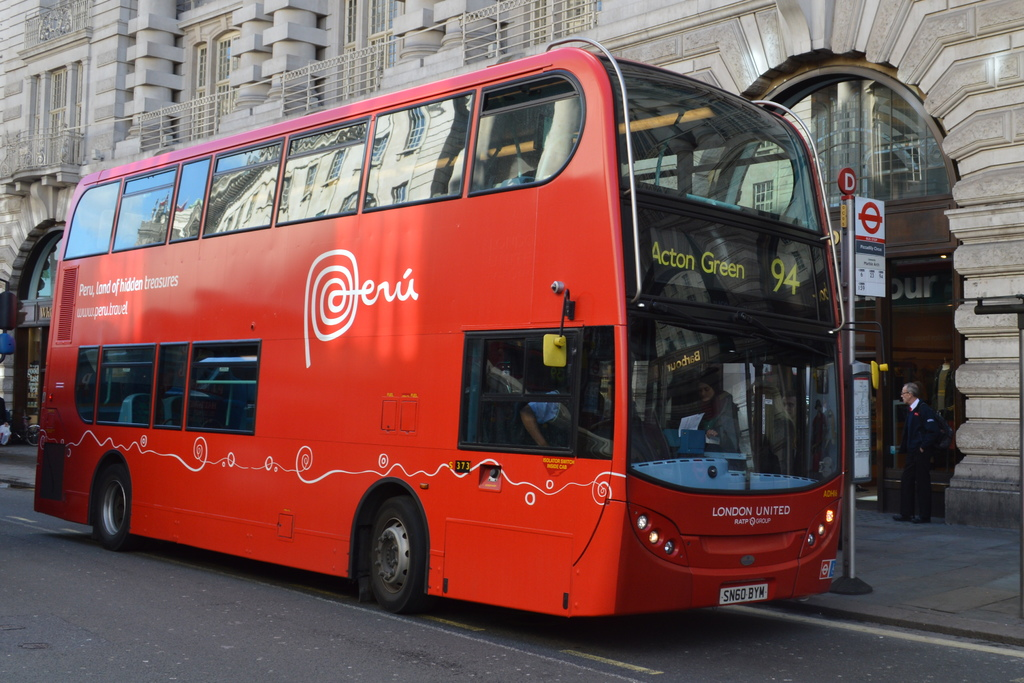Bus: (24, 40, 854, 623)
